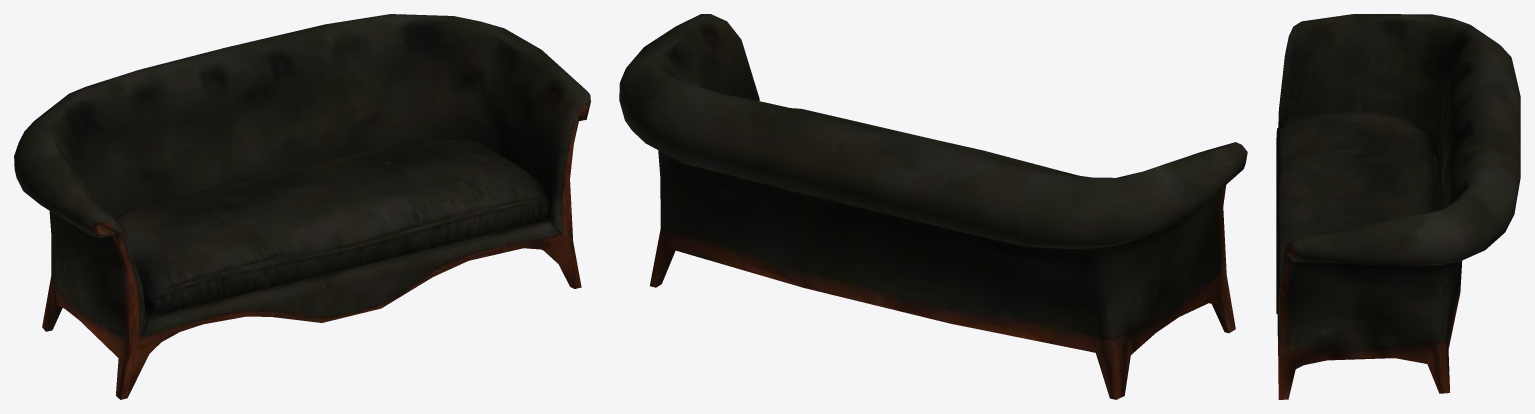
The model's file is sofa_02.glb.
3 renders of one model, left to right at view 1: azimuth 30°, elevation 25°; view 2: azimuth 150°, elevation 25°; view 3: azimuth 270°, elevation 25°, orthographic. The views are drawn at different scales.
Visible parts, largest first — view 1: sofa_02_Base; view 2: sofa_02_Base; view 3: sofa_02_Base.
Boxes of the visible parts, <box> form: sofa_02_Base: <box>14,14,590,399</box>; sofa_02_Base: <box>619,14,1247,399</box>; sofa_02_Base: <box>1276,14,1520,399</box>.
Size of the model in its own units: 1.81 by 0.7095 by 0.8121.
Materials: 1 (1 with a texture image).
